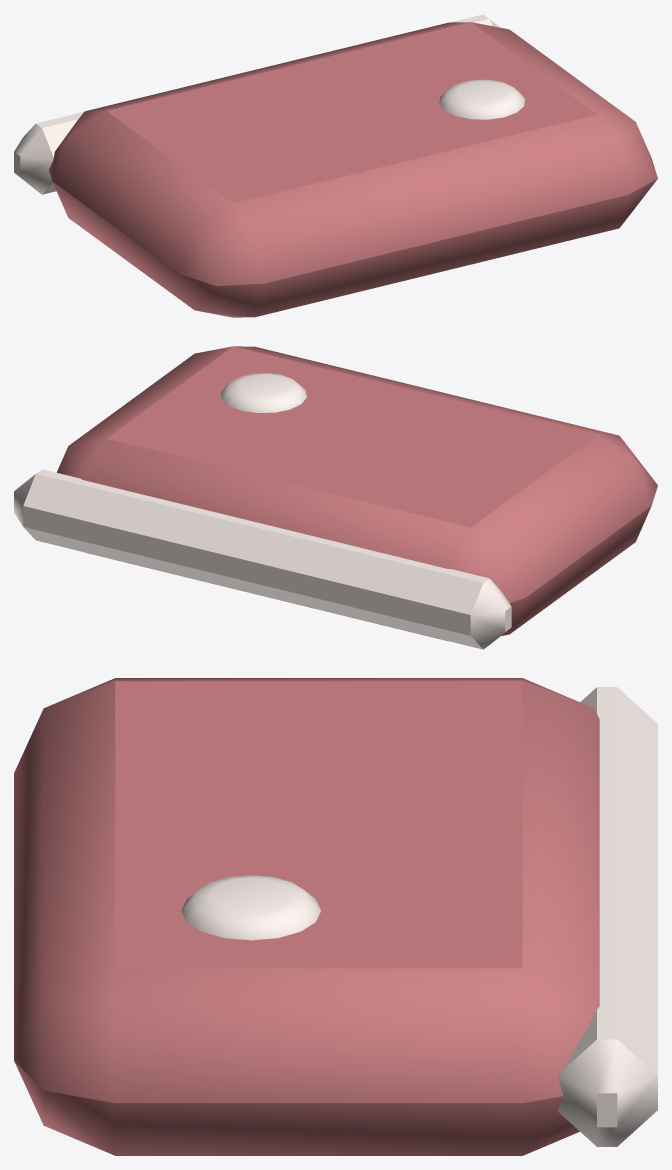
Rendered from kr_steak.glb.
3 renders of one model, top to bottom at view 1: azimuth 30°, elevation 25°; view 2: azimuth 150°, elevation 25°; view 3: azimuth 270°, elevation 25°, orthographic. The views are drawn at different scales.
Visible parts, largest first — view 1: vc_m0_r6, vc_m0_r4; view 2: vc_m0_r6, vc_m0_r4; view 3: vc_m0_r6, vc_m0_r4.
Part boxes in pixels (x1,y1,x2,y2): vc_m0_r6: (49, 22, 657, 317); vc_m0_r4: (14, 14, 525, 194); vc_m0_r6: (57, 346, 657, 641); vc_m0_r4: (14, 373, 511, 649); vc_m0_r6: (14, 678, 599, 1155); vc_m0_r4: (181, 687, 657, 1146).
Size of the model in its own units: 0.27 by 0.065 by 0.19.
